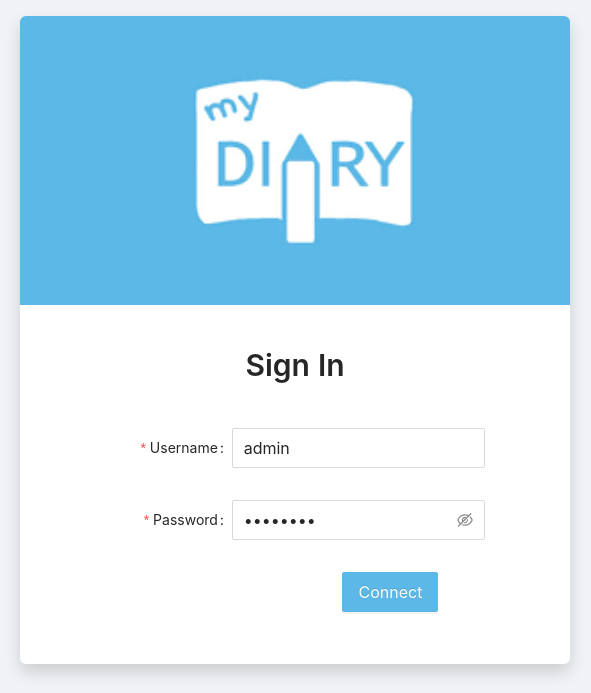
Test: authentication › should see an error if the username is empty
The width and height of the screenshot is (591, 693).
Expected: the password field labelled "Password" is shown, [244, 508, 453, 533]
Clear the field labelled "Username" at [359, 448], box [232, 428, 485, 468]
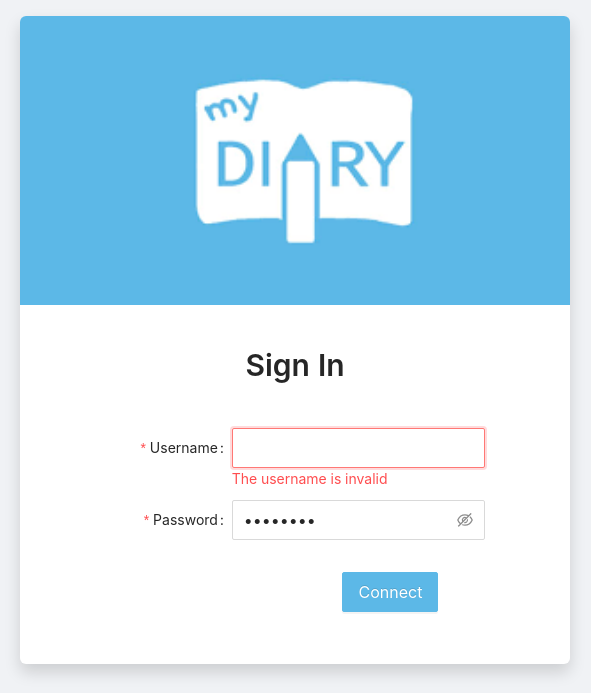
Expected: the text "The username is invalid" is shown, [232, 470, 388, 487]
Clear the password field labelled "Password" at [349, 521], box [244, 508, 453, 533]
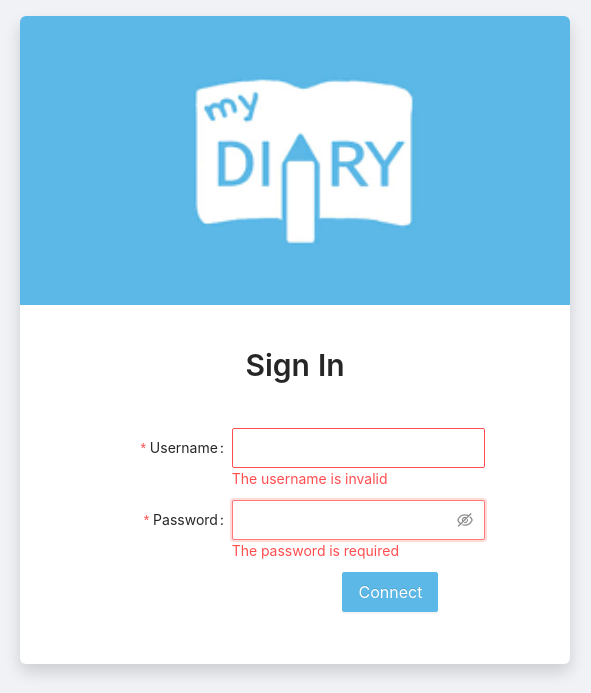
Expected: the text "The password is required" is shown, [232, 542, 399, 560]
